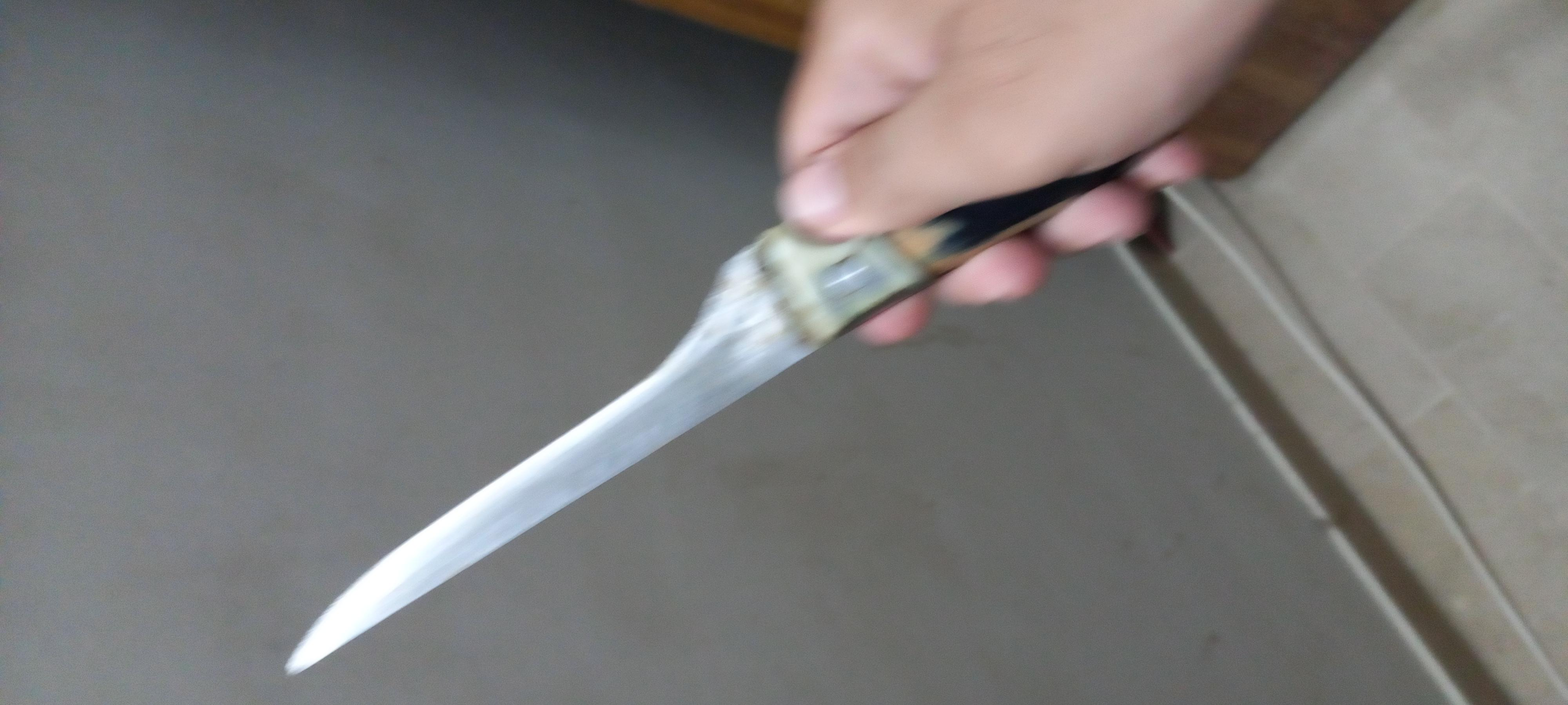knives: (1, 127, 1159, 504)
